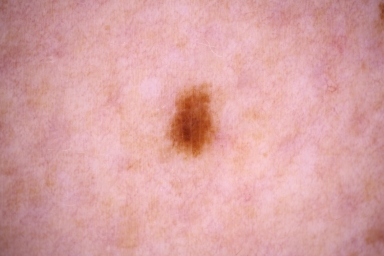melanoma: (167, 84, 210, 157)
